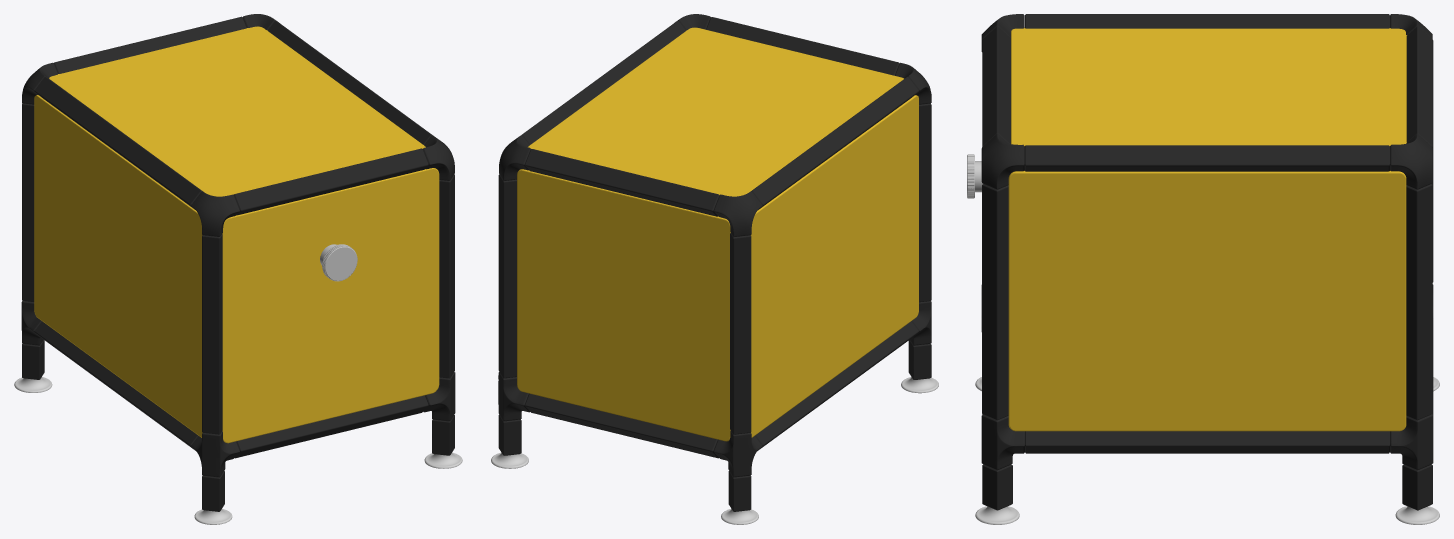
The picture shows the model from 3 angles, left to right: view 1: azimuth 30°, elevation 25°; view 2: azimuth 150°, elevation 25°; view 3: azimuth 270°, elevation 25°; orthographic projection. The views are drawn at different scales.
Parts seen in each view (by area): view 1: 229x329x229; view 2: 229x329x229; view 3: 229x329x229.
Part boxes in pixels (box(x1,y1,x2,y2)): 229x329x229: box(14, 14, 462, 524); 229x329x229: box(491, 14, 938, 524); 229x329x229: box(967, 14, 1439, 524).
Bounding box in the file's own units: 0.319 × 0.3682 × 0.4257.
